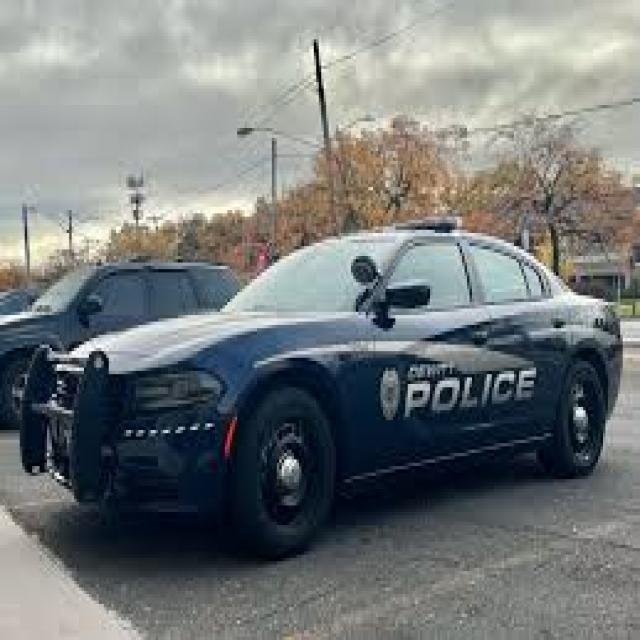cop: (21, 220, 623, 559)
